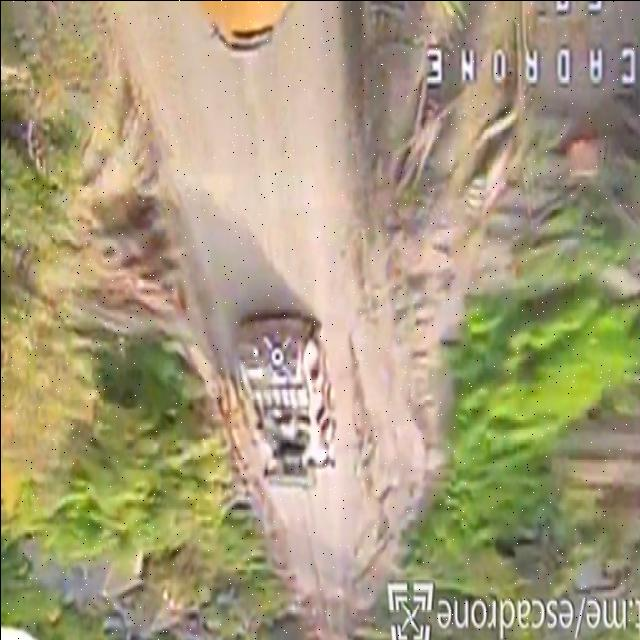APC-IFV: (228, 306, 348, 506)
